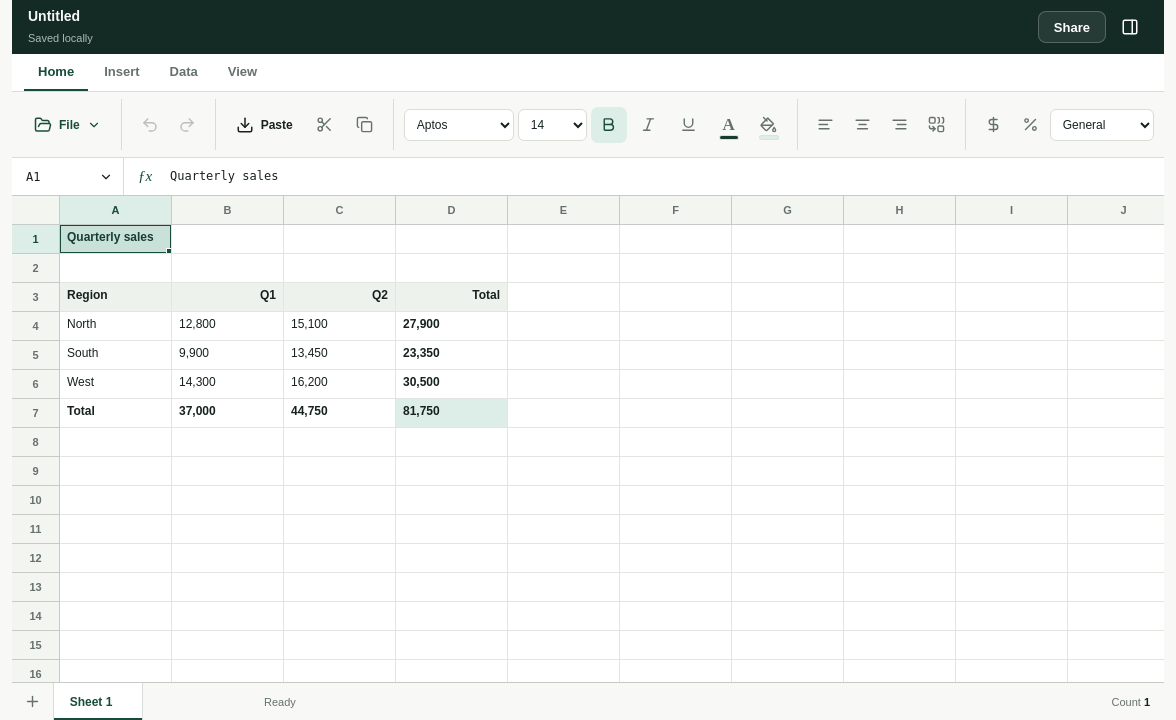
Test: Gridstone interactions › edits a cell by double-clicking and commits exactly once
Double-click the cell "North" at (116, 326), box [60,312,172,341]
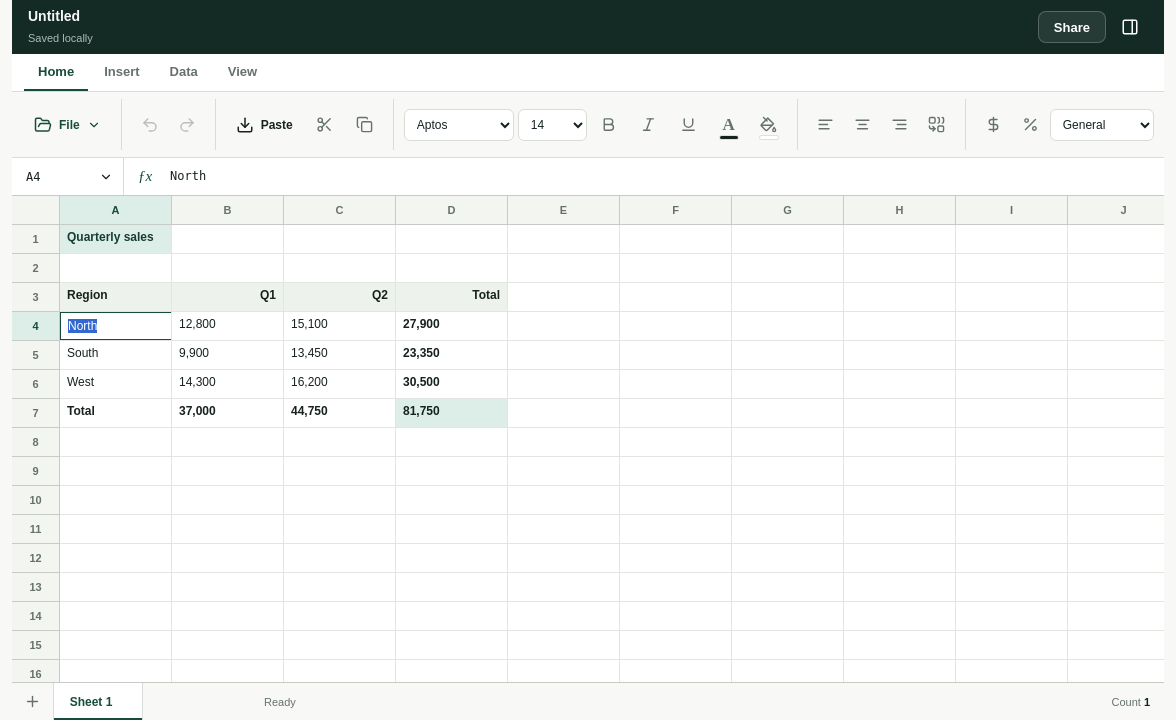
Replace the text in the field named "Edit cell value" with "East". click: (134, 326)
box: [59,311,209,341]
Then press Enter
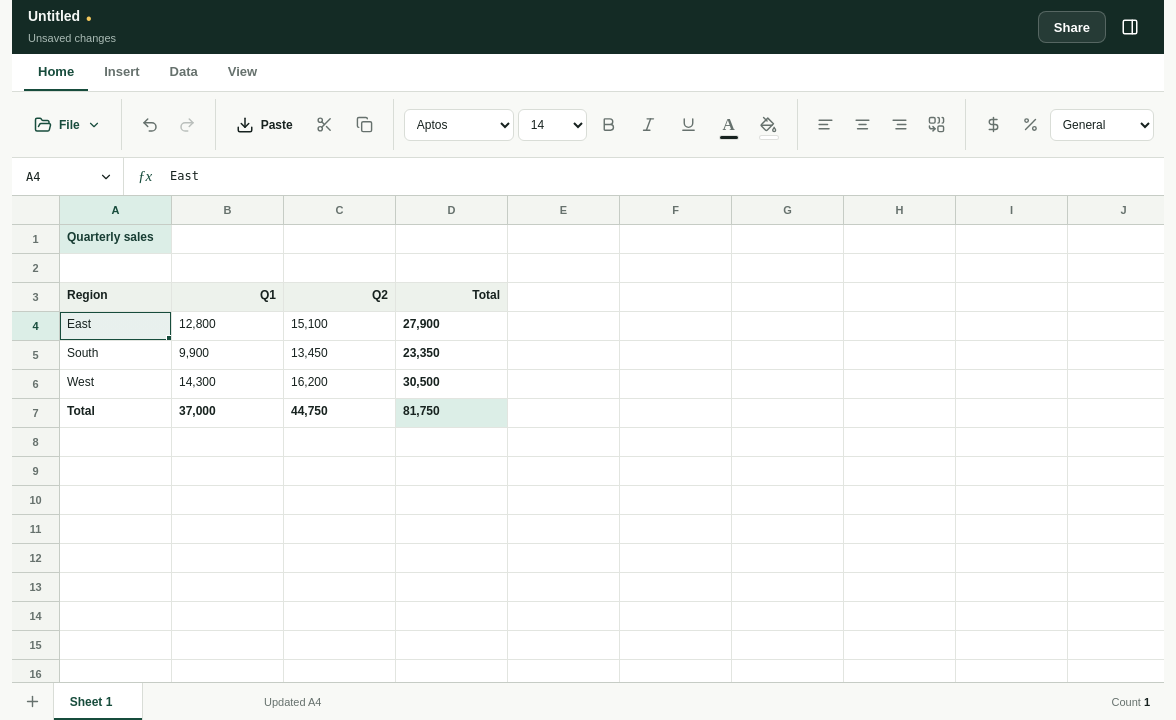
Now the text "Updated A4" is shown, box [264,696,322,708]
